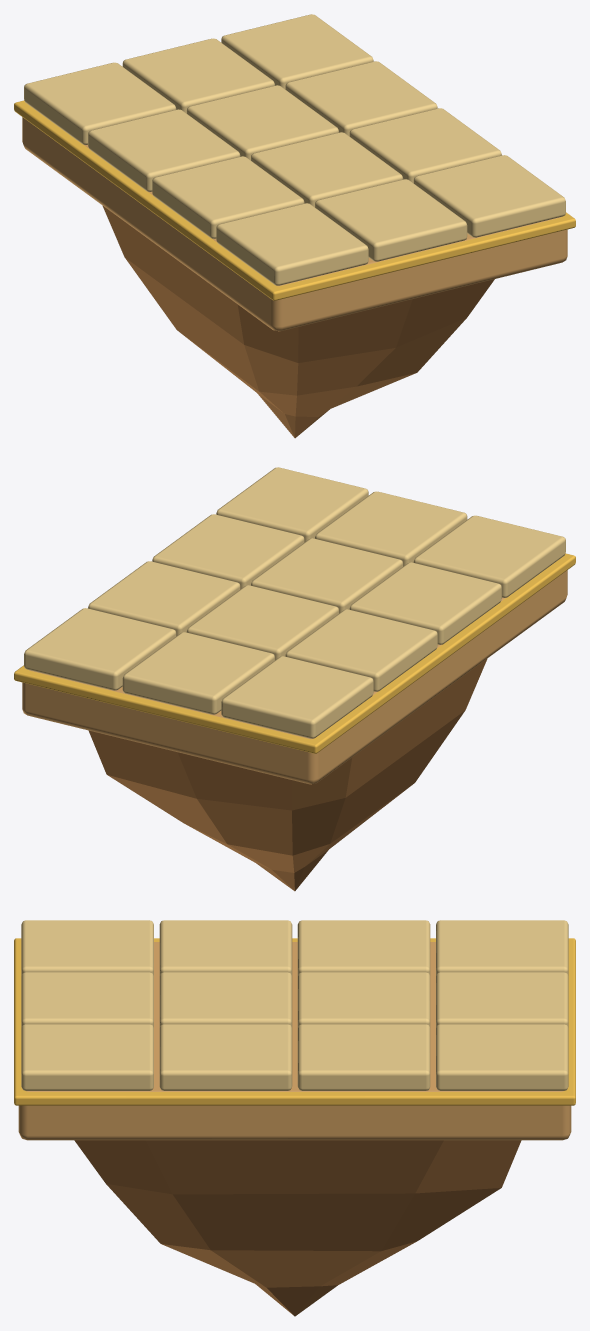
The model's file is PLAT_Ruin_M.glb.
The picture shows the model from 3 angles, top to bottom: view 1: azimuth 30°, elevation 25°; view 2: azimuth 150°, elevation 25°; view 3: azimuth 270°, elevation 25°; orthographic projection. The views are drawn at different scales.
Visible parts, largest first — view 1: Tiles, Underside, Slab, Trim; view 2: Tiles, Underside, Slab, Trim; view 3: Tiles, Underside, Slab, Trim.
Boxes of the visible parts, box(x1,y1,x2,y2) form: Tiles: box(24, 14, 565, 285); Underside: box(102, 205, 494, 438); Slab: box(22, 117, 567, 331); Trim: box(14, 100, 575, 300); Tiles: box(24, 467, 565, 738); Underside: box(88, 658, 487, 891); Slab: box(22, 570, 567, 784); Trim: box(14, 553, 575, 753); Tiles: box(21, 920, 568, 1090); Underside: box(74, 1140, 521, 1316); Slab: box(18, 942, 571, 1140); Trim: box(14, 938, 575, 1105).
Size of the model in its own units: 4.1 by 3.85 by 6.1.
